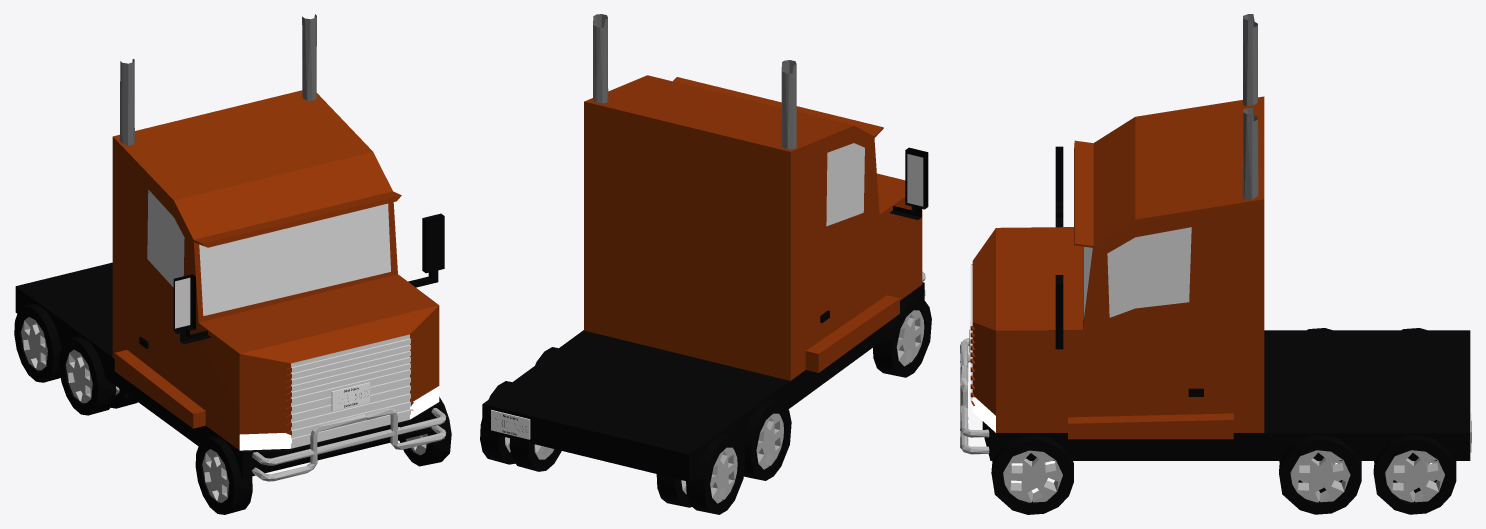
Rendered from Semi Truck - Front Only.glb.
The picture shows the model from 3 angles, left to right: view 1: azimuth 30°, elevation 25°; view 2: azimuth 150°, elevation 25°; view 3: azimuth 270°, elevation 25°; orthographic projection. The views are drawn at different scales.
Parts seen in each view (by area): view 1: Cabin.001, Bed - Front.001, Rear Tires, Front Tires, Cattleguards, Exhausts, NJ Plate; view 2: Cabin.001, Bed - Front.001, Rear Tires, Front Tires, Exhausts, NJ Plate; view 3: Cabin.001, Bed - Front.001, Rear Tires, Front Tires, Exhausts, Cattleguards.
Boxes of the visible parts, left/top/right/bottom form: Cabin.001: left=112, top=90, right=444, bottom=450; Bed - Front.001: left=15, top=262, right=442, bottom=478; Rear Tires: left=14, top=304, right=137, bottom=415; Front Tires: left=195, top=397, right=451, bottom=514; Cattleguards: left=252, top=407, right=446, bottom=481; Exhausts: left=120, top=14, right=316, bottom=145; NJ Plate: left=331, top=382, right=369, bottom=411; Cabin.001: left=584, top=75, right=928, bottom=380; Bed - Front.001: left=482, top=282, right=924, bottom=481; Rear Tires: left=480, top=347, right=791, bottom=514; Front Tires: left=873, top=296, right=931, bottom=377; Exhausts: left=593, top=14, right=796, bottom=149; NJ Plate: left=491, top=410, right=530, bottom=439; Cabin.001: left=970, top=96, right=1264, bottom=439; Bed - Front.001: left=982, top=330, right=1470, bottom=460; Rear Tires: left=1279, top=328, right=1456, bottom=514; Front Tires: left=991, top=435, right=1073, bottom=514; Exhausts: left=1242, top=14, right=1258, bottom=199; Cattleguards: left=960, top=338, right=989, bottom=454.
Bounding box in the file's own units: 3.24 × 4.32 × 5.08.
